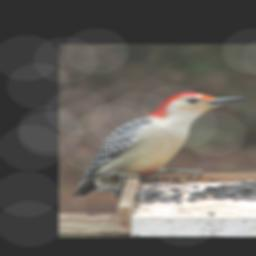Woodpecker: (70, 92, 249, 200)
